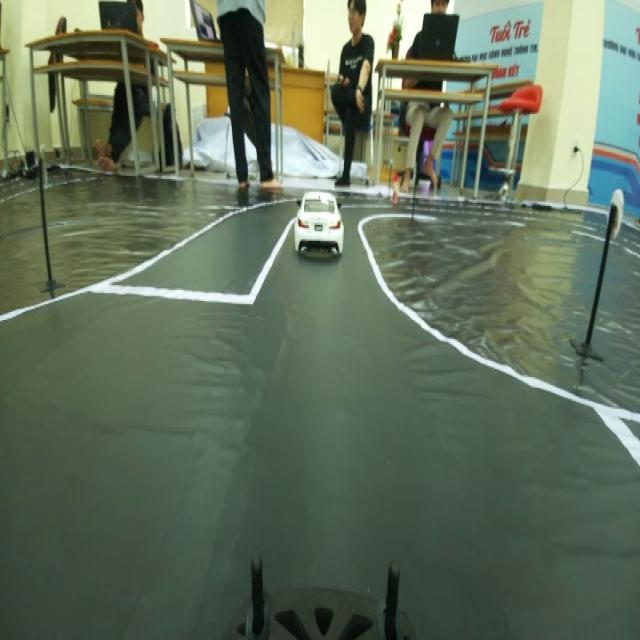car: (296, 191, 346, 259)
